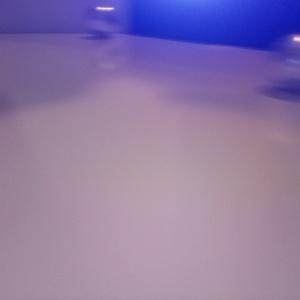alive_ball: (270, 35, 300, 93), (82, 3, 120, 35)
